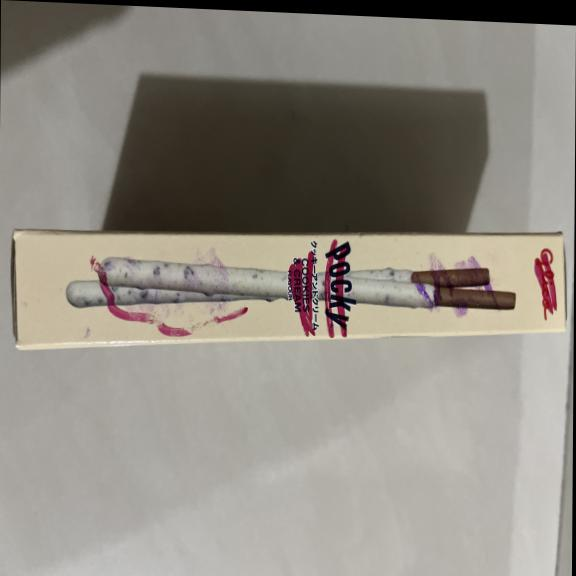Kertas: (9, 206, 563, 372)
